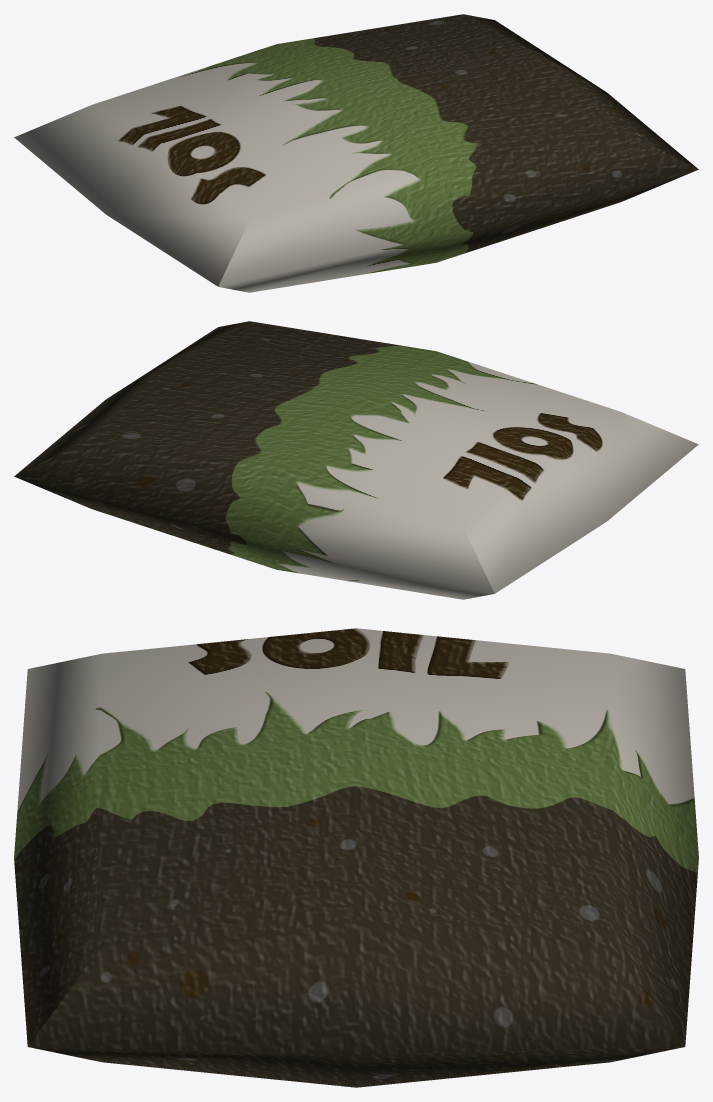
Rendered from multa.FBX.
3 renders of one model, top to bottom at view 1: azimuth 30°, elevation 25°; view 2: azimuth 150°, elevation 25°; view 3: azimuth 270°, elevation 25°, orthographic. The views are drawn at different scales.
Visible parts, largest first — view 1: multa; view 2: multa; view 3: multa.
Boxes of the visible parts, left/top/right/bottom form: multa: left=14, top=14, right=698, bottom=292; multa: left=14, top=321, right=698, bottom=599; multa: left=14, top=628, right=698, bottom=1087.
Bounding box in the file's own units: 26.33 × 6.83 × 19.37.
Materials: 1 (1 with a texture image).
